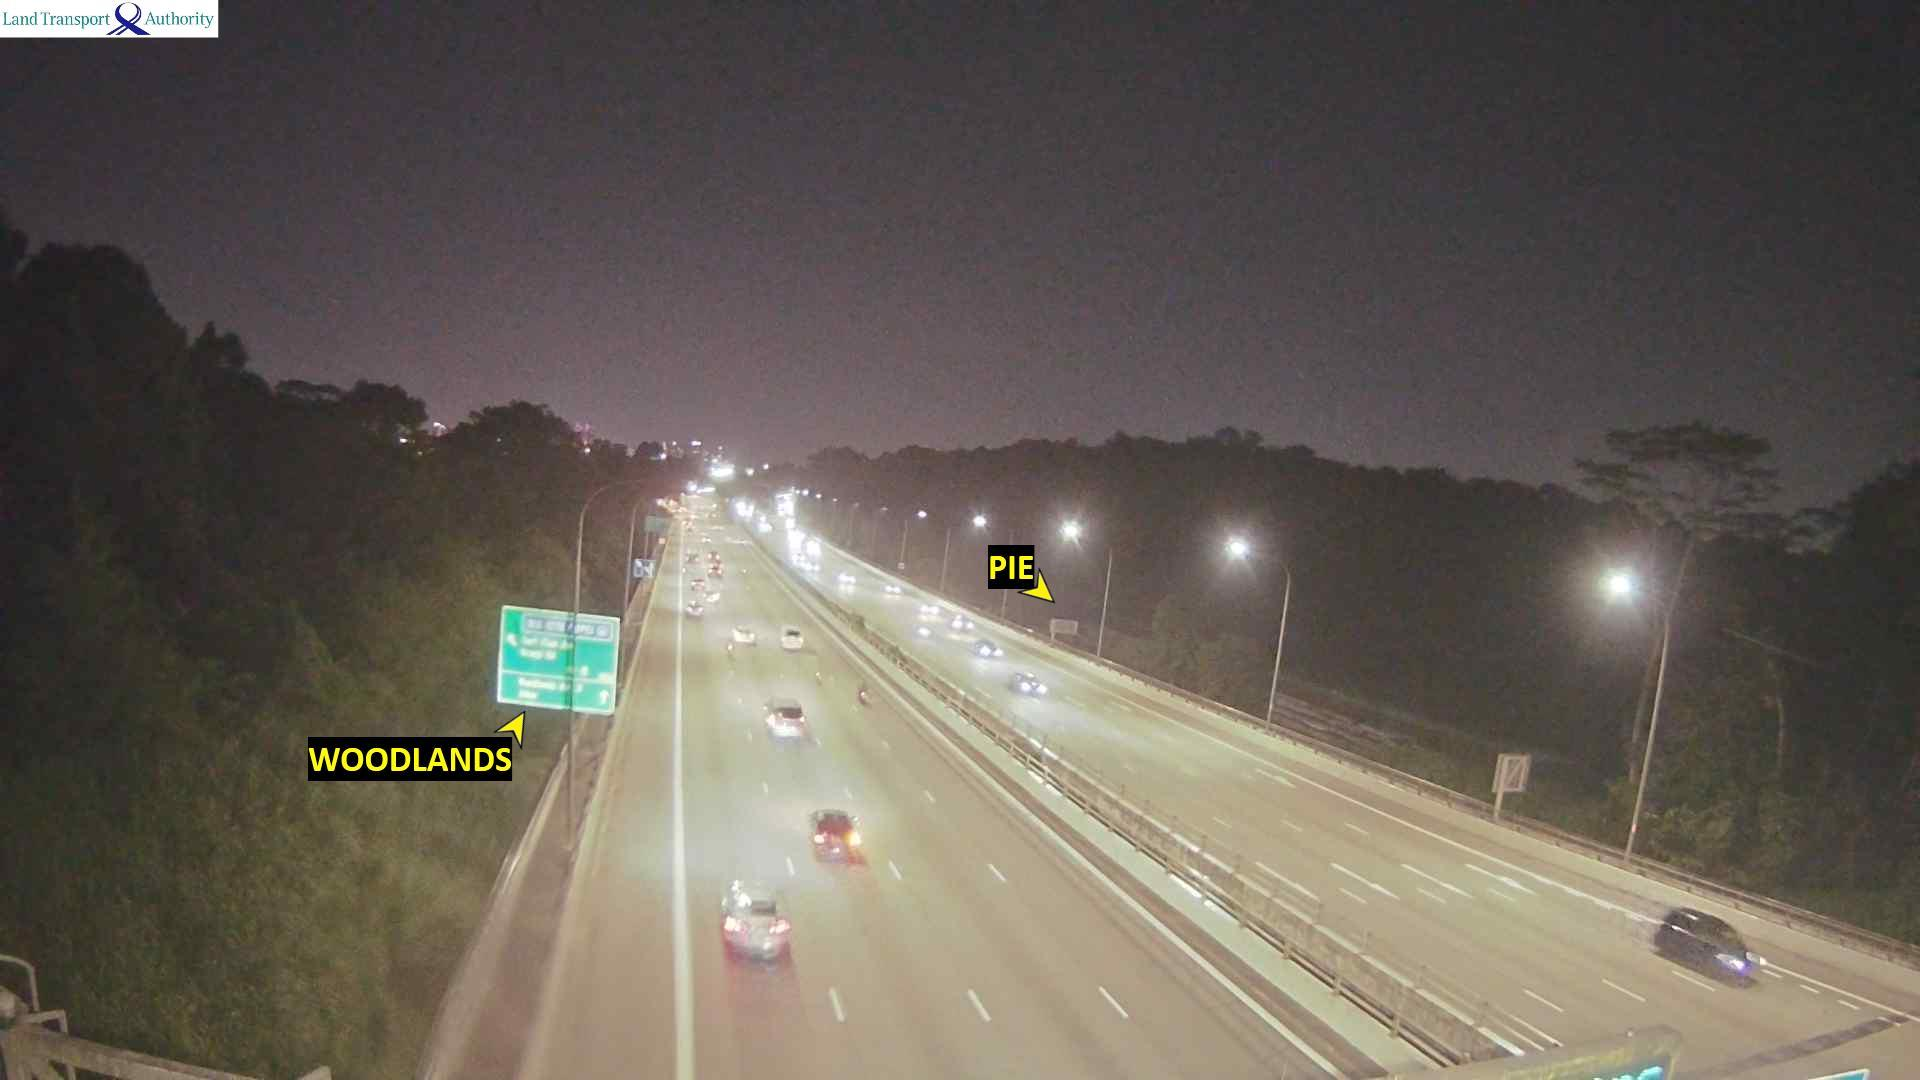cars: (1654, 905, 1756, 984), (719, 878, 790, 961), (808, 808, 862, 862), (762, 695, 806, 738), (1010, 669, 1046, 695), (731, 622, 756, 646), (779, 625, 803, 649), (948, 611, 975, 632), (975, 638, 1001, 658), (914, 624, 942, 641), (688, 576, 712, 595), (916, 603, 942, 620), (836, 570, 855, 588), (684, 599, 703, 617), (791, 546, 807, 567), (789, 531, 808, 547), (707, 564, 725, 580), (703, 592, 724, 604), (686, 550, 702, 566), (806, 539, 823, 554), (882, 582, 901, 595), (804, 562, 824, 572), (757, 521, 775, 531), (705, 551, 721, 563), (700, 531, 712, 545)
motorcycle: (851, 678, 878, 709), (720, 636, 737, 661), (811, 665, 828, 687)
